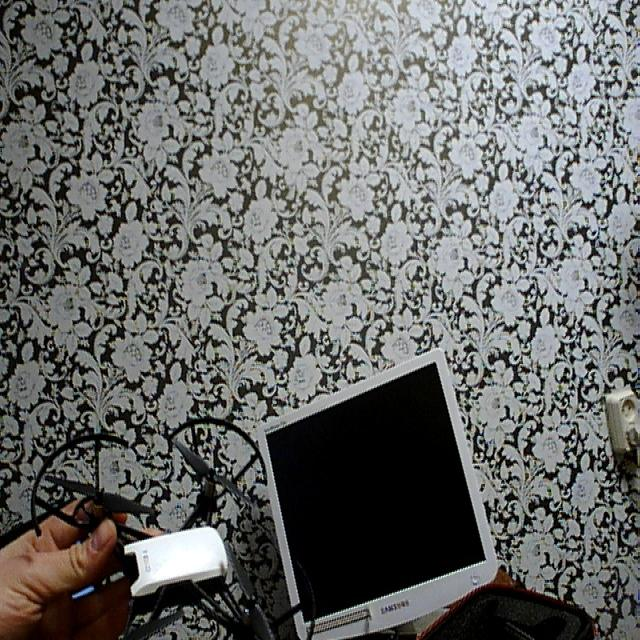drone: (22, 405, 322, 640)
